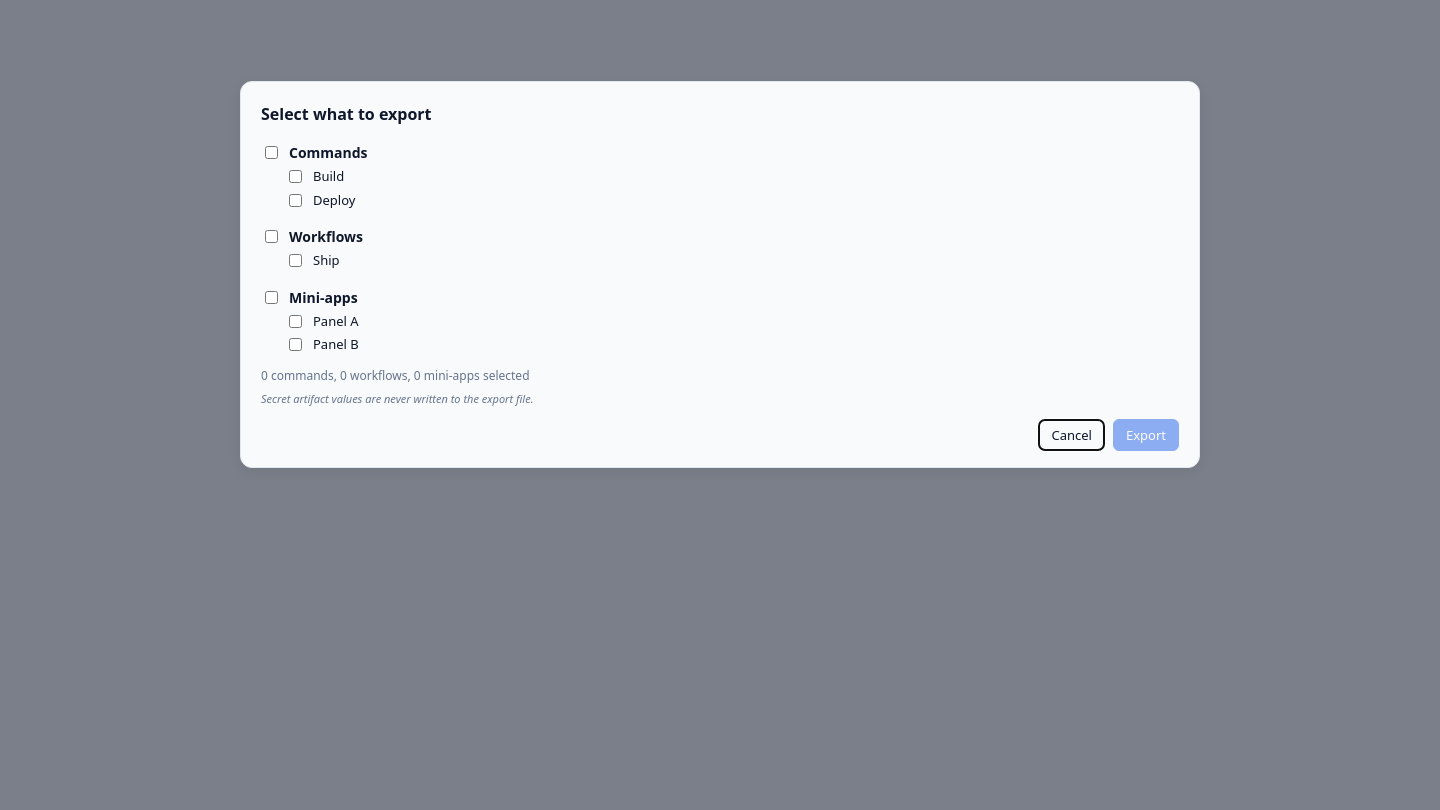
Test case: ExportDialog › toggling the Commands parent selects then clears all children
What coordinates should you click on to do the following:
click the checkbox labelled "Commands"
I would click on:
 (272, 152)
Its box is [265,146,278,159].
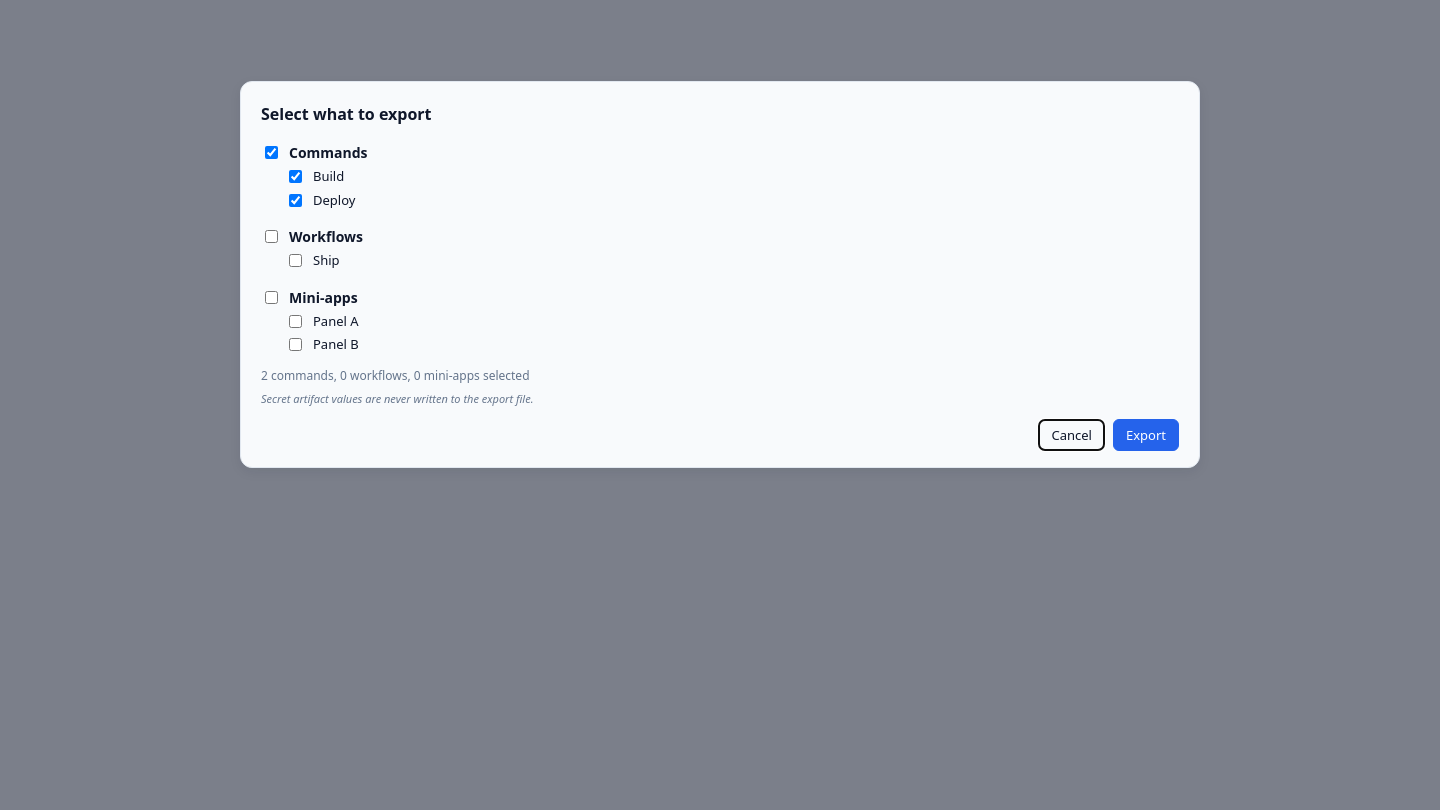
Result: the checkbox labelled "Build" is checked at [289,170,302,183]
Result: the checkbox labelled "Deploy" is checked at [289,194,302,207]
What coordinates should you click on to do the following:
click the checkbox labelled "Commands"
I would click on:
 (272, 152)
Its box is [265,146,278,159].
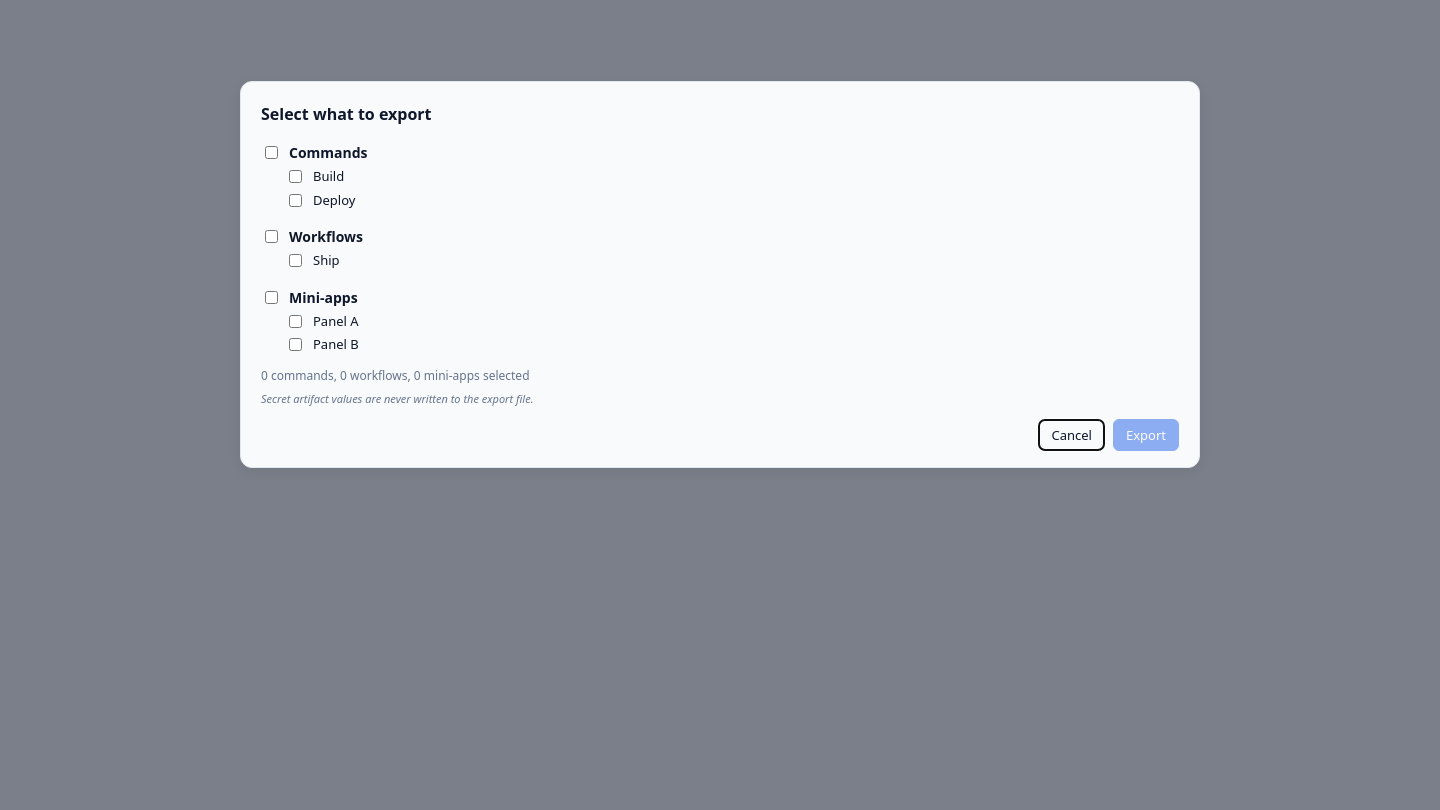
Result: the checkbox labelled "Build" is not checked at [289,170,302,183]
Result: the checkbox labelled "Deploy" is not checked at [289,194,302,207]
